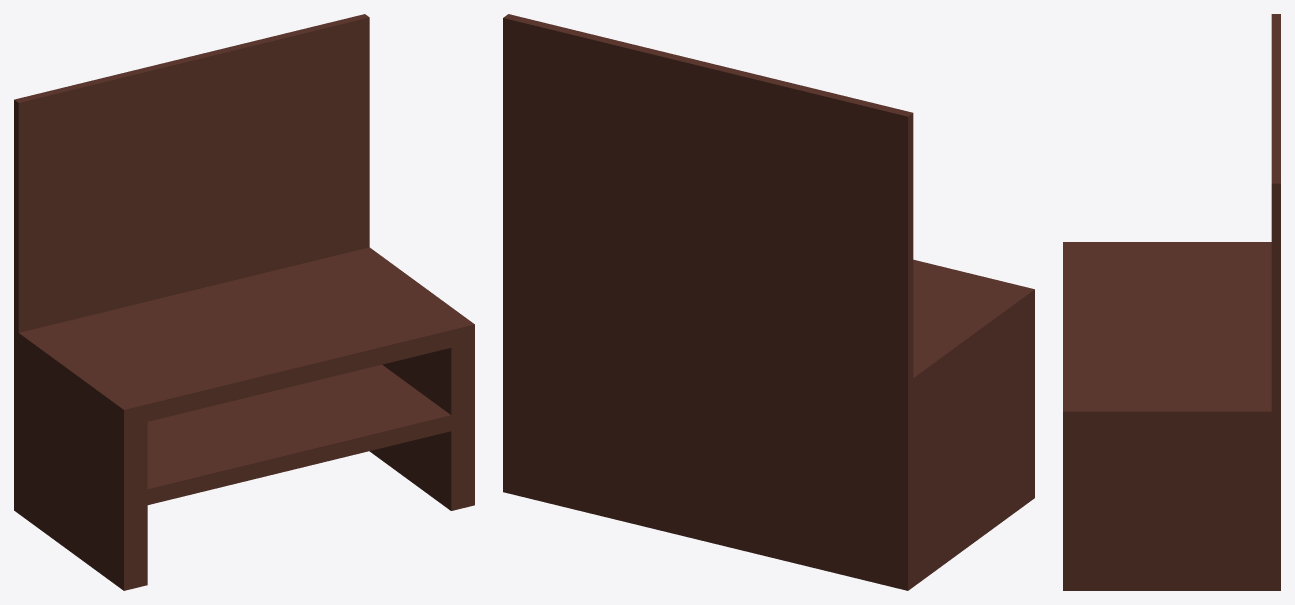
File: SM_Workbench_02.fbx
The picture shows the model from 3 angles, left to right: view 1: azimuth 30°, elevation 25°; view 2: azimuth 150°, elevation 25°; view 3: azimuth 270°, elevation 25°; orthographic projection. The views are drawn at different scales.
Visible parts, largest first — view 1: Workbench.001; view 2: Workbench.001; view 3: Workbench.001.
Part boxes in pixels (left/top/right/bottom): Workbench.001: left=14, top=14, right=474, bottom=590; Workbench.001: left=503, top=14, right=1034, bottom=590; Workbench.001: left=1063, top=14, right=1280, bottom=590.
Size of the model in its own units: 1.52 by 0.8254 by 1.7.
